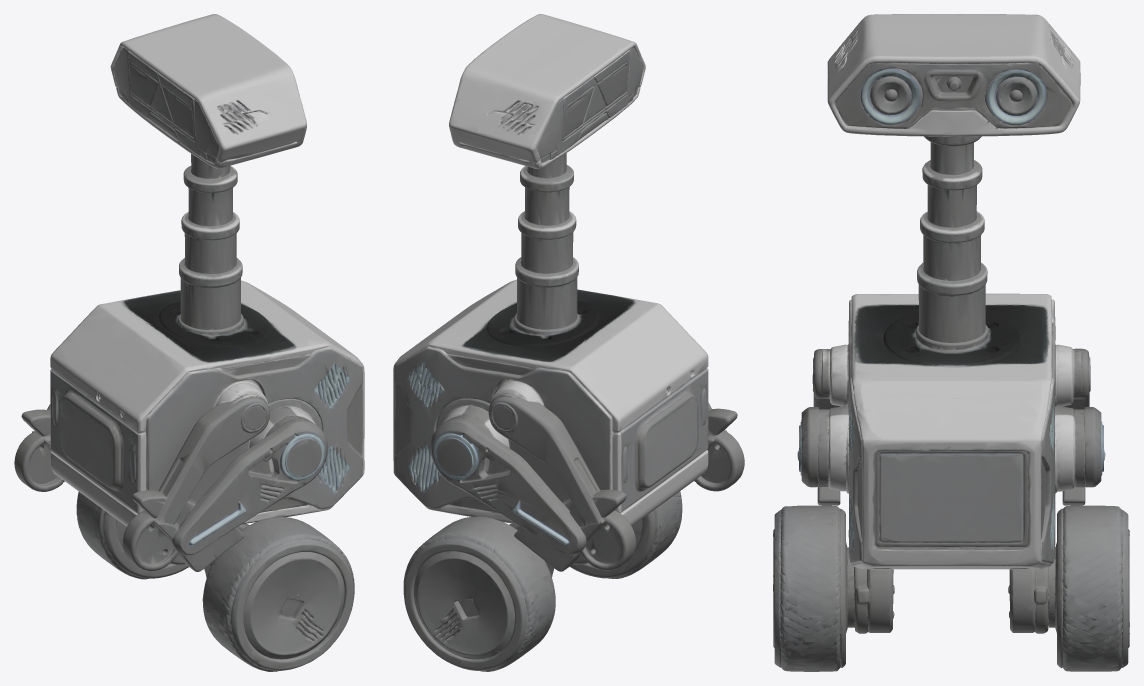
The model's file is robot-web.glb.
The picture shows the model from 3 angles, left to right: view 1: azimuth 30°, elevation 25°; view 2: azimuth 150°, elevation 25°; view 3: azimuth 270°, elevation 25°; orthographic projection. The views are drawn at different scales.
Parts seen in each view (by area): view 1: robot_fbx_visual; view 2: robot_fbx_visual; view 3: robot_fbx_visual.
Boxes of the visible parts, x1,y1,x2,y2 form: robot_fbx_visual: (14,14,364,671); robot_fbx_visual: (393,14,744,671); robot_fbx_visual: (773,14,1129,671).
Size of the model in its own units: 22.81 by 48.18 by 24.94.
1 material, 1 textured.
